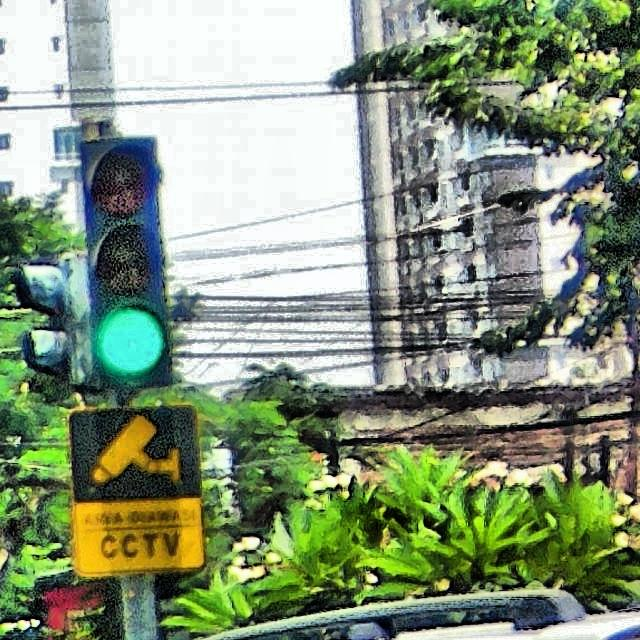green: (76, 132, 182, 392)
